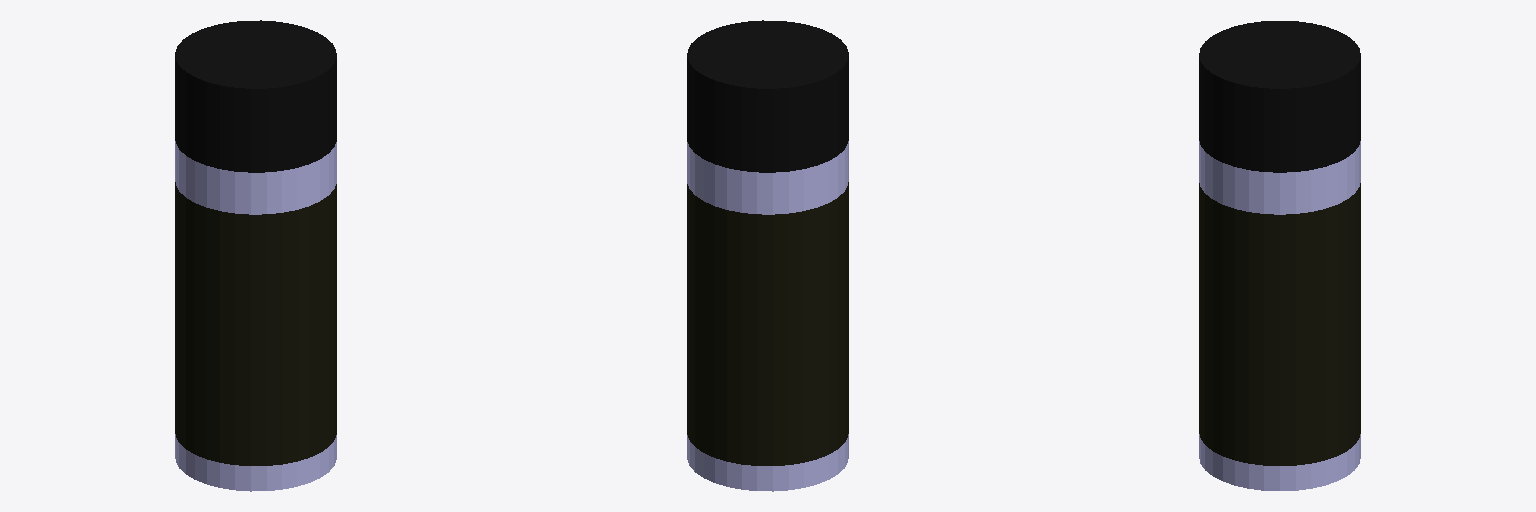
URDF robot description (pepper_shaker):
<robot name="pepper_shaker">
  <link name="pepper_shaker">

    <!-- Bottom glass -->
    <collision>
      <origin xyz="0 0 0.003" />
      <geometry>
        <cylinder radius="0.0175" length="0.006" />
      </geometry>
    </collision>
    <visual>
      <origin xyz="0 0 0.003" />
      <material name="glass">
        <color rgba="0.78 0.78 0.98 0.38" />
      </material>
      <geometry>
        <cylinder radius="0.0175" length="0.006" />
      </geometry>
    </visual>

    <!-- Pepper-->
    <collision>
      <origin xyz="0 0 0.036" />
      <geometry>
        <cylinder radius="0.0175" length="0.06" />
      </geometry>
    </collision>
    <visual>
      <origin xyz="0 0 0.036" />
      <material name="pepper">
        <color rgba="0.15 0.15 0.1 0.98" />
      </material>
      <geometry>
        <cylinder radius="0.0175" length="0.06" />
      </geometry>
    </visual>

    <!-- Top glass -->
    <collision>
      <origin xyz="0 0 0.071" />
      <geometry>
        <cylinder radius="0.0175" length="0.01" />
      </geometry>
    </collision>
    <visual>
      <origin xyz="0 0 0.071" />
      <material name="glass">
        <color rgba="0.78 0.78 0.98 0.38" />
      </material>
      <geometry>
        <cylinder radius="0.0175" length="0.01" />
      </geometry>
    </visual>

    <!-- Lid -->
    <collision>
      <origin xyz="0 0 0.086" />
      <geometry>
        <cylinder radius="0.0175" length="0.02" />
      </geometry>
    </collision>
    <visual>
      <origin xyz="0 0 0.086" />
      <material name="black">
        <color rgba="0.1 0.1 0.1 1.0" />
      </material>
      <geometry>
        <cylinder radius="0.0175" length="0.02" />
      </geometry>
    </visual>
  </link>
</robot>

--- What the picture shows (computed from the rendered views, not written in the file) ---
The picture shows the robot from 3 angles, left to right: view 1: azimuth 30°, elevation 25°; view 2: azimuth 150°, elevation 25°; view 3: azimuth 270°, elevation 25°; orthographic projection.
Model pepper_shaker with 1 links and 0 joints (none), rooted at pepper_shaker, posed every joint at zero.
Visible links, largest first — view 1: pepper_shaker; view 2: pepper_shaker; view 3: pepper_shaker.
Link boxes in pixels (x1,y1,x2,y2): pepper_shaker: (175, 20, 336, 491); pepper_shaker: (687, 20, 848, 491); pepper_shaker: (1199, 21, 1360, 490).
Size in the robot's own frame: 0.035 by 0.035 by 0.096 metres.
Geometry: primitives only (box / cylinder / sphere), no mesh files.